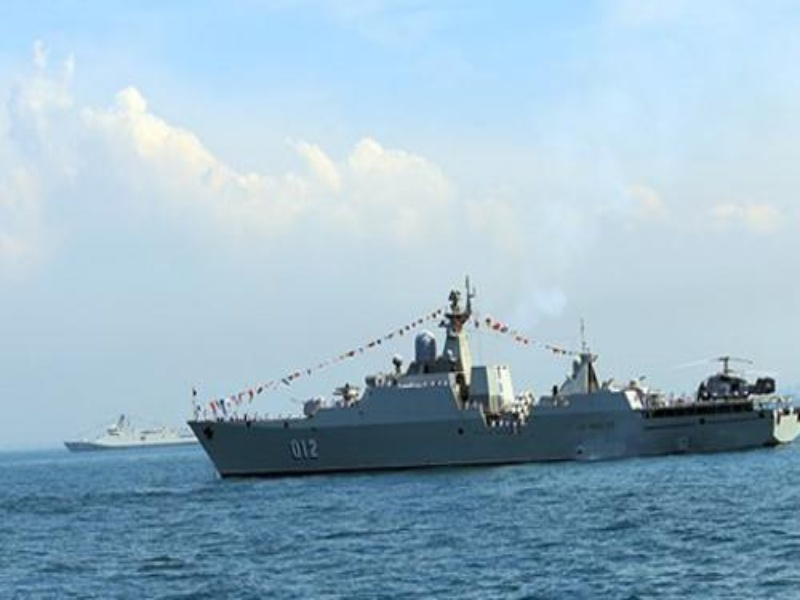cruise: (211, 313, 796, 462), (74, 410, 187, 450)
